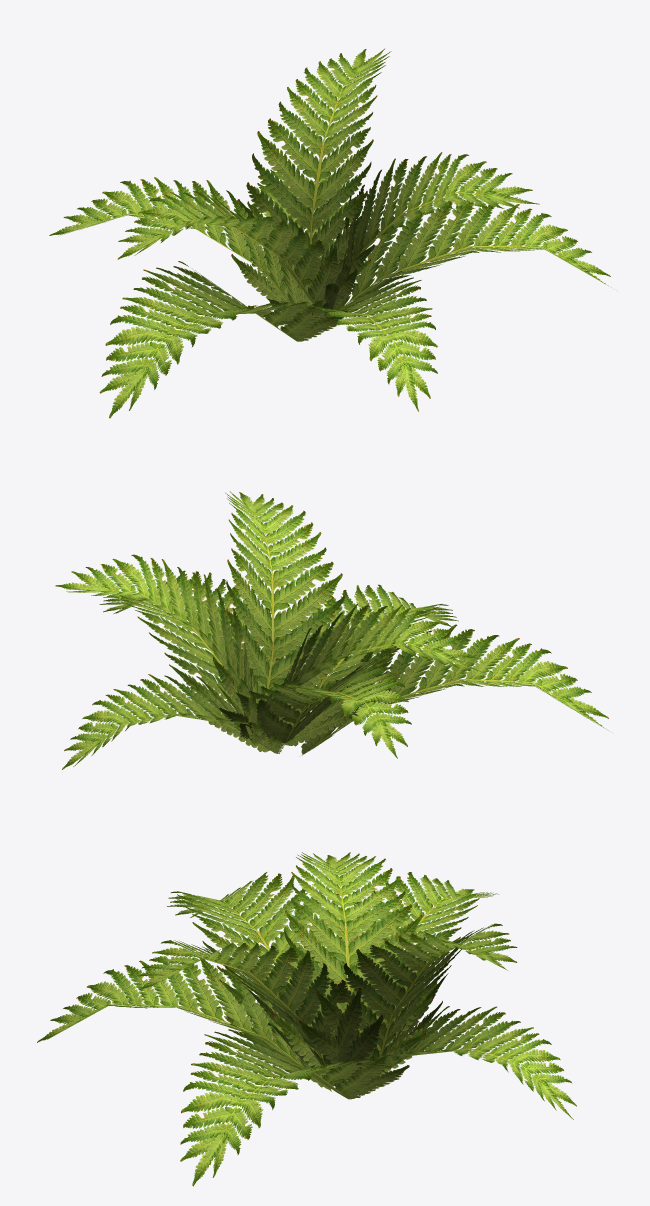
The model's file is fern.fbx.
3 renders of one model, top to bottom at view 1: azimuth 30°, elevation 25°; view 2: azimuth 150°, elevation 25°; view 3: azimuth 270°, elevation 25°, orthographic. The views are drawn at different scales.
Visible parts, largest first — view 1: fern; view 2: fern; view 3: fern.
Part boxes in pixels (box(x1,y1,x2,y2)): fern: box(49, 48, 614, 418); fern: box(55, 491, 608, 769); fern: box(37, 852, 576, 1186).
Size of the model in its own units: 65.44 by 25.52 by 53.31.
